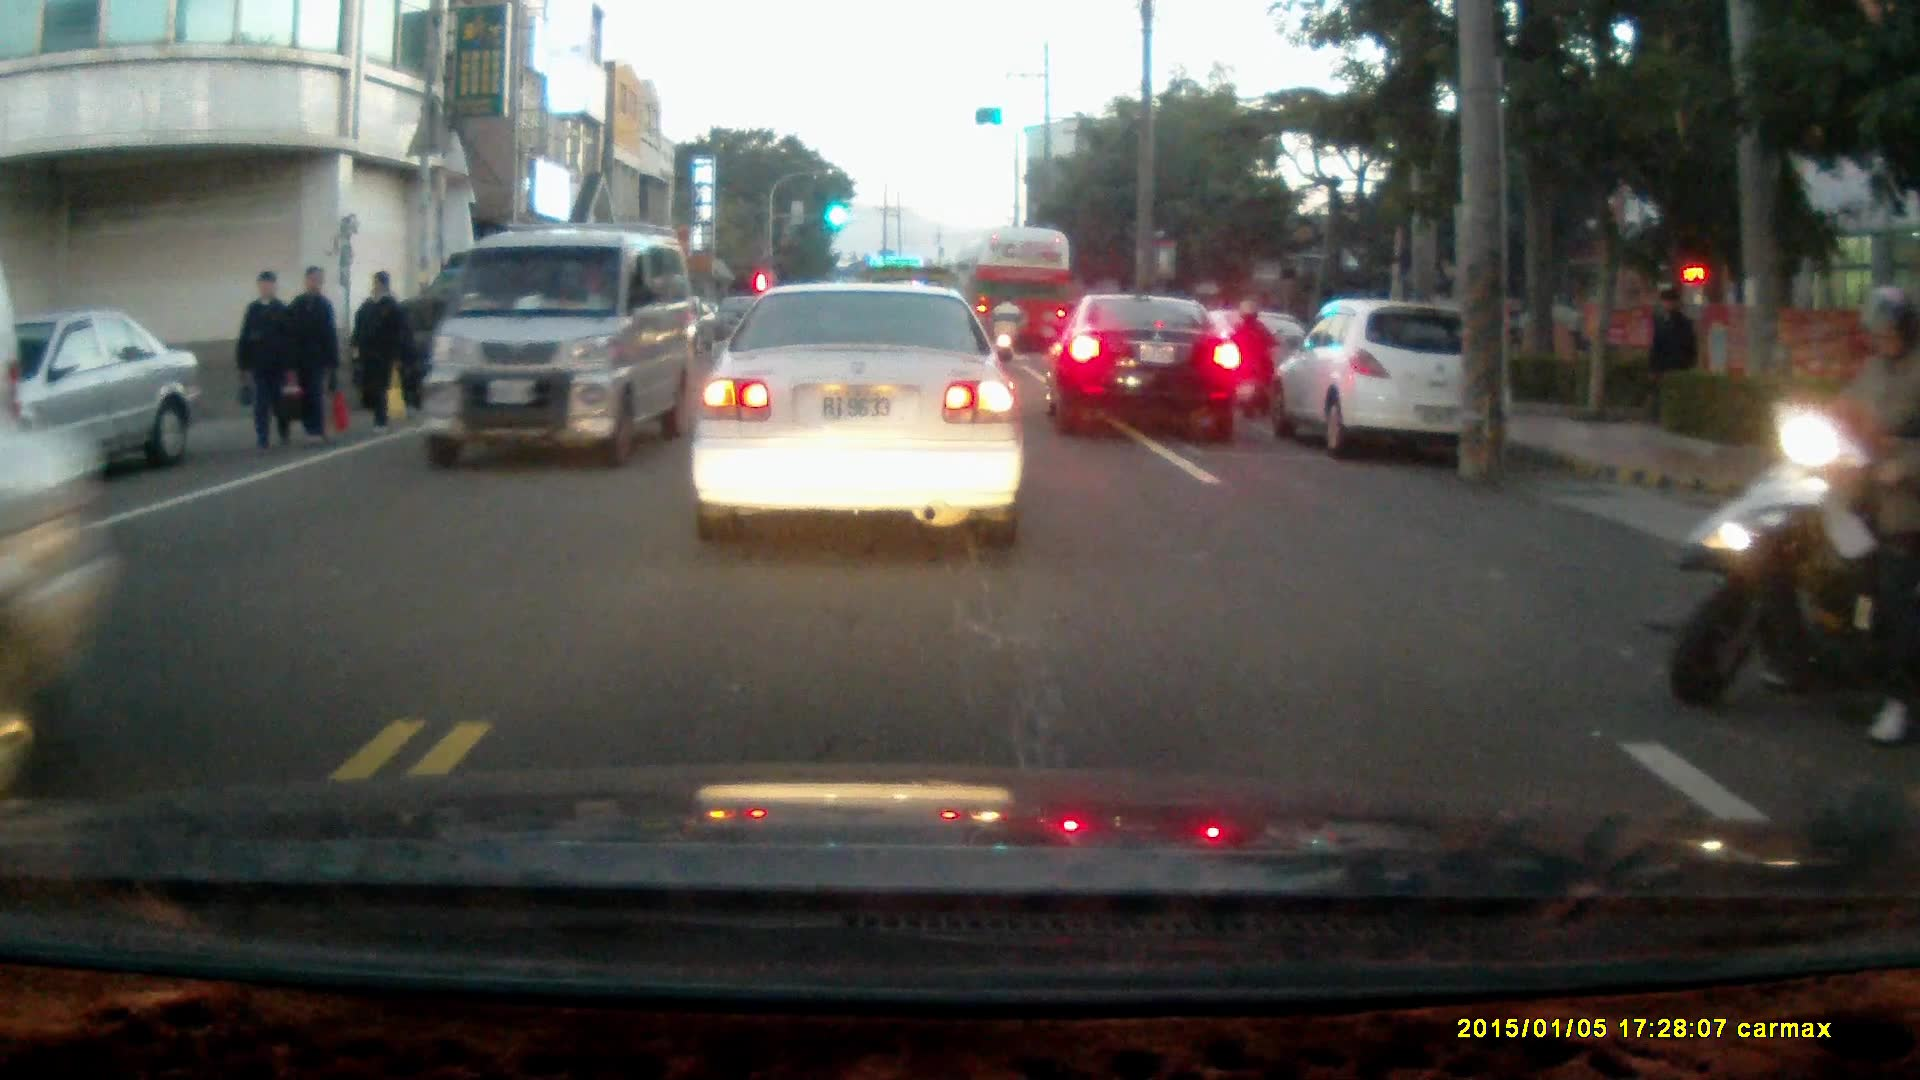pedestrian: (269, 262, 335, 460), (232, 266, 298, 457), (346, 268, 408, 434), (1648, 286, 1703, 429)
rider: (1675, 282, 1918, 732), (1229, 297, 1282, 420), (988, 292, 1027, 372)
vehicle: (690, 281, 1029, 550), (422, 223, 697, 472), (1, 418, 139, 822), (1266, 296, 1513, 467), (1, 309, 205, 501), (1047, 296, 1248, 444), (972, 224, 1073, 366)
